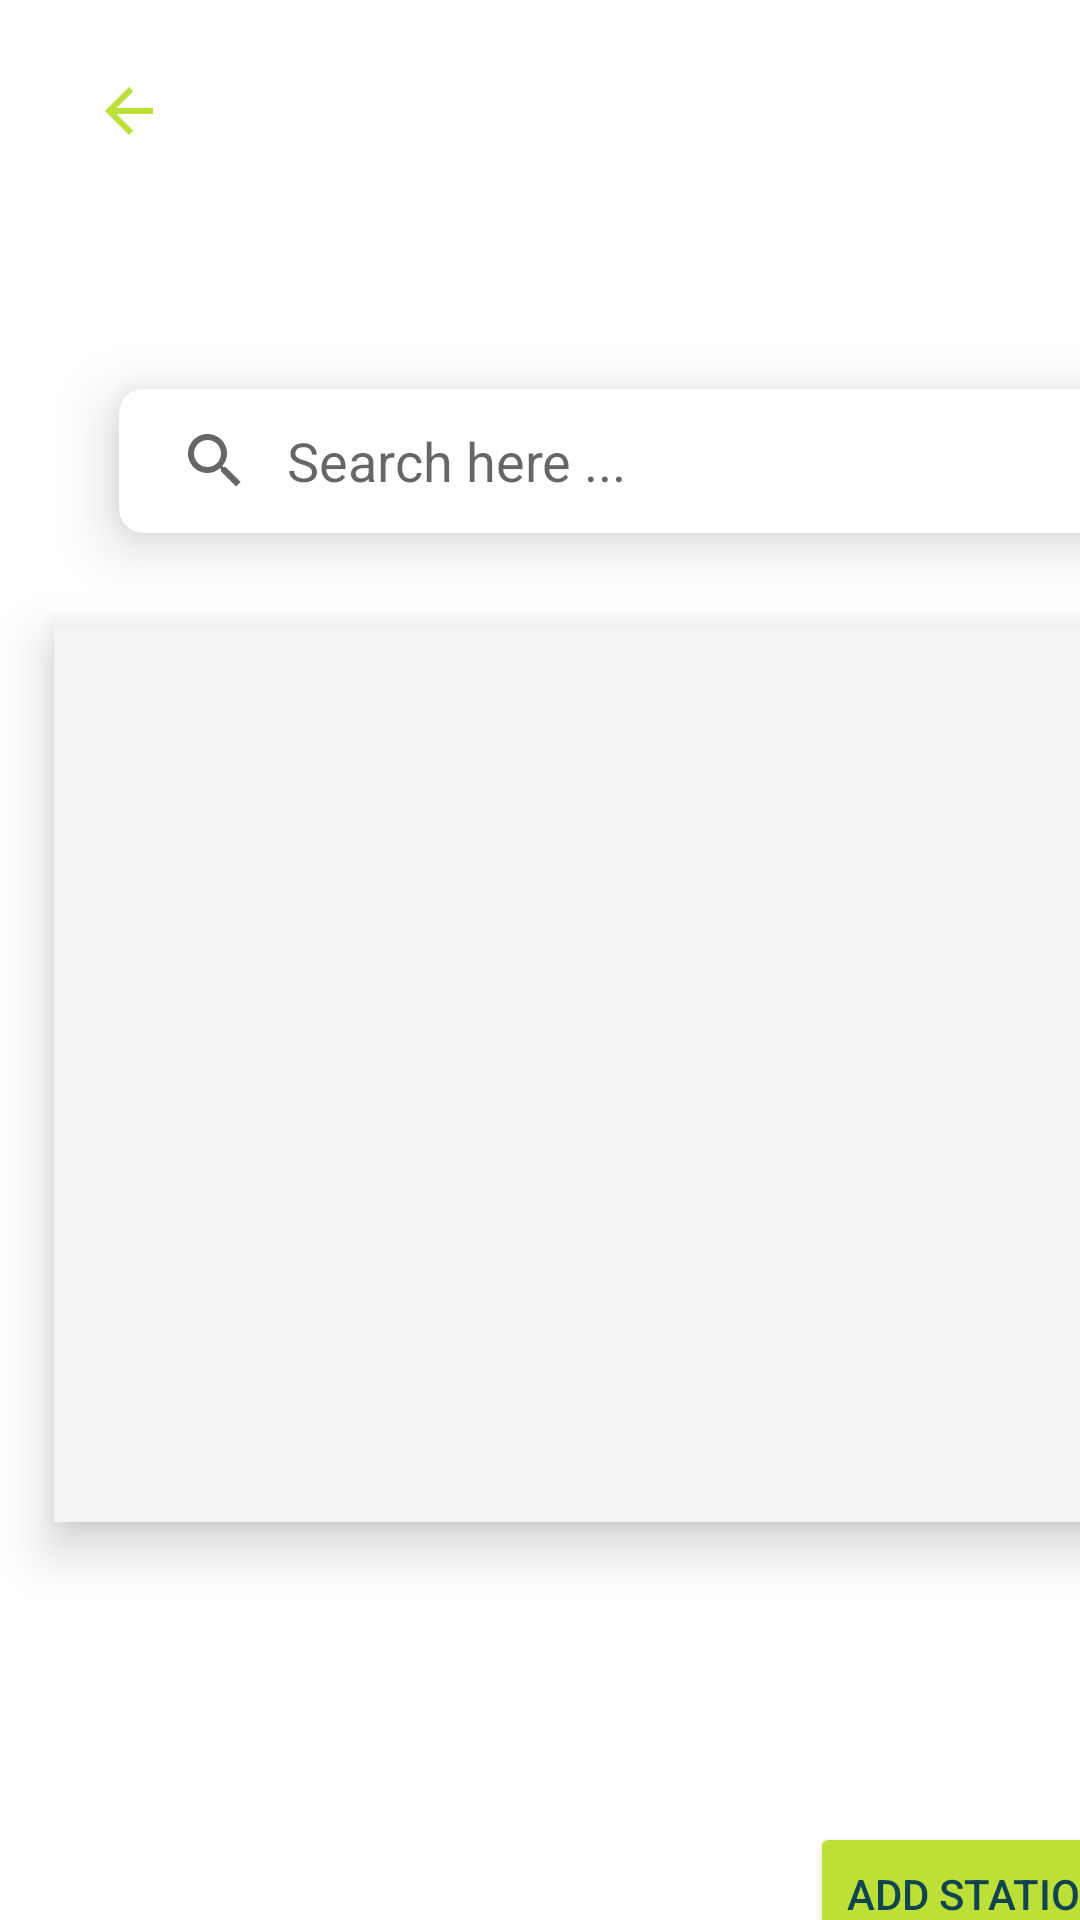

Screen size 1080x1920. Icon name, then its box in pixels as bbox(x1, y1, x2, y2):
arrow back: bbox(105, 87, 153, 135)
